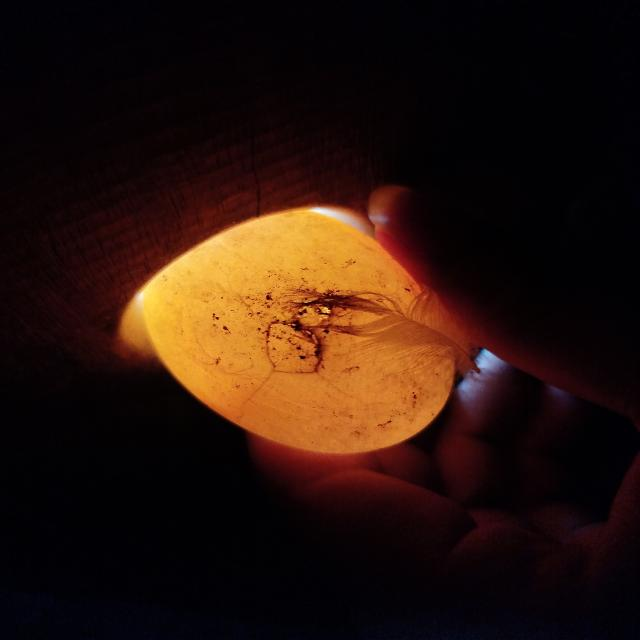Rachadura: (267, 324, 318, 373)
